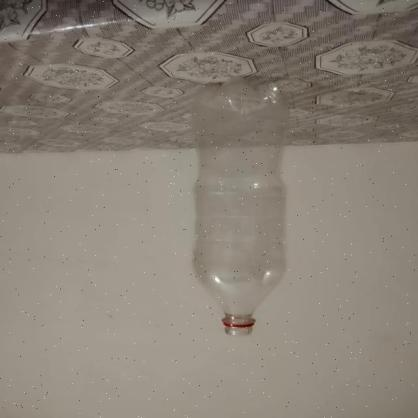bottle: (194, 80, 288, 336)
